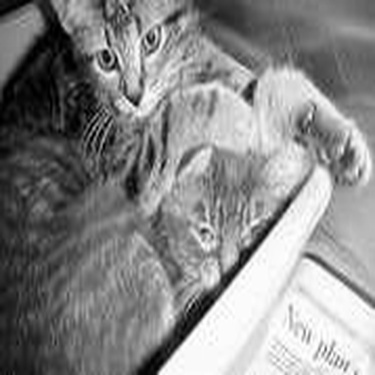cat: (3, 1, 372, 190), (6, 139, 297, 368)
